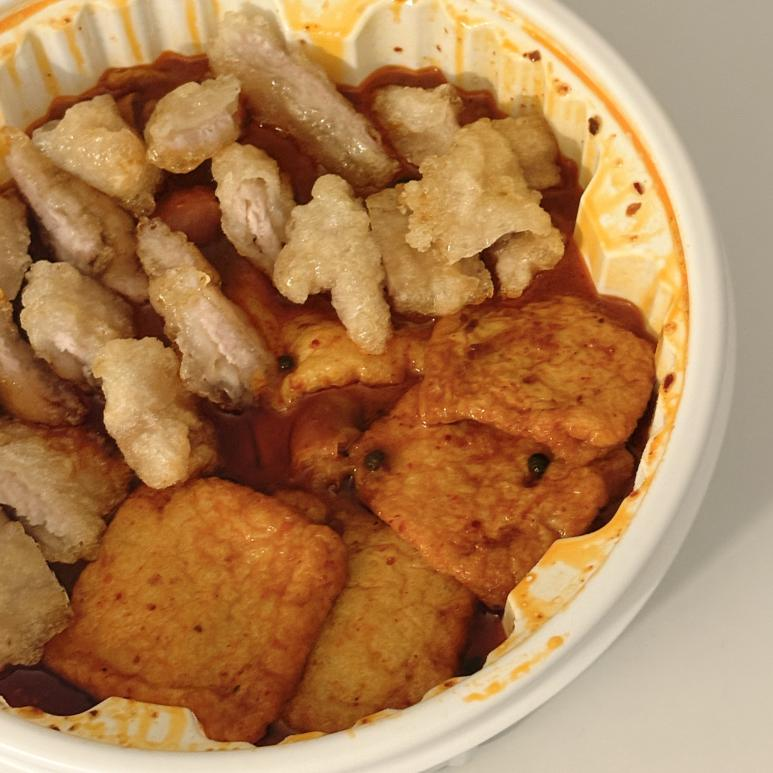Lunch Box: (0, 0, 728, 772)
